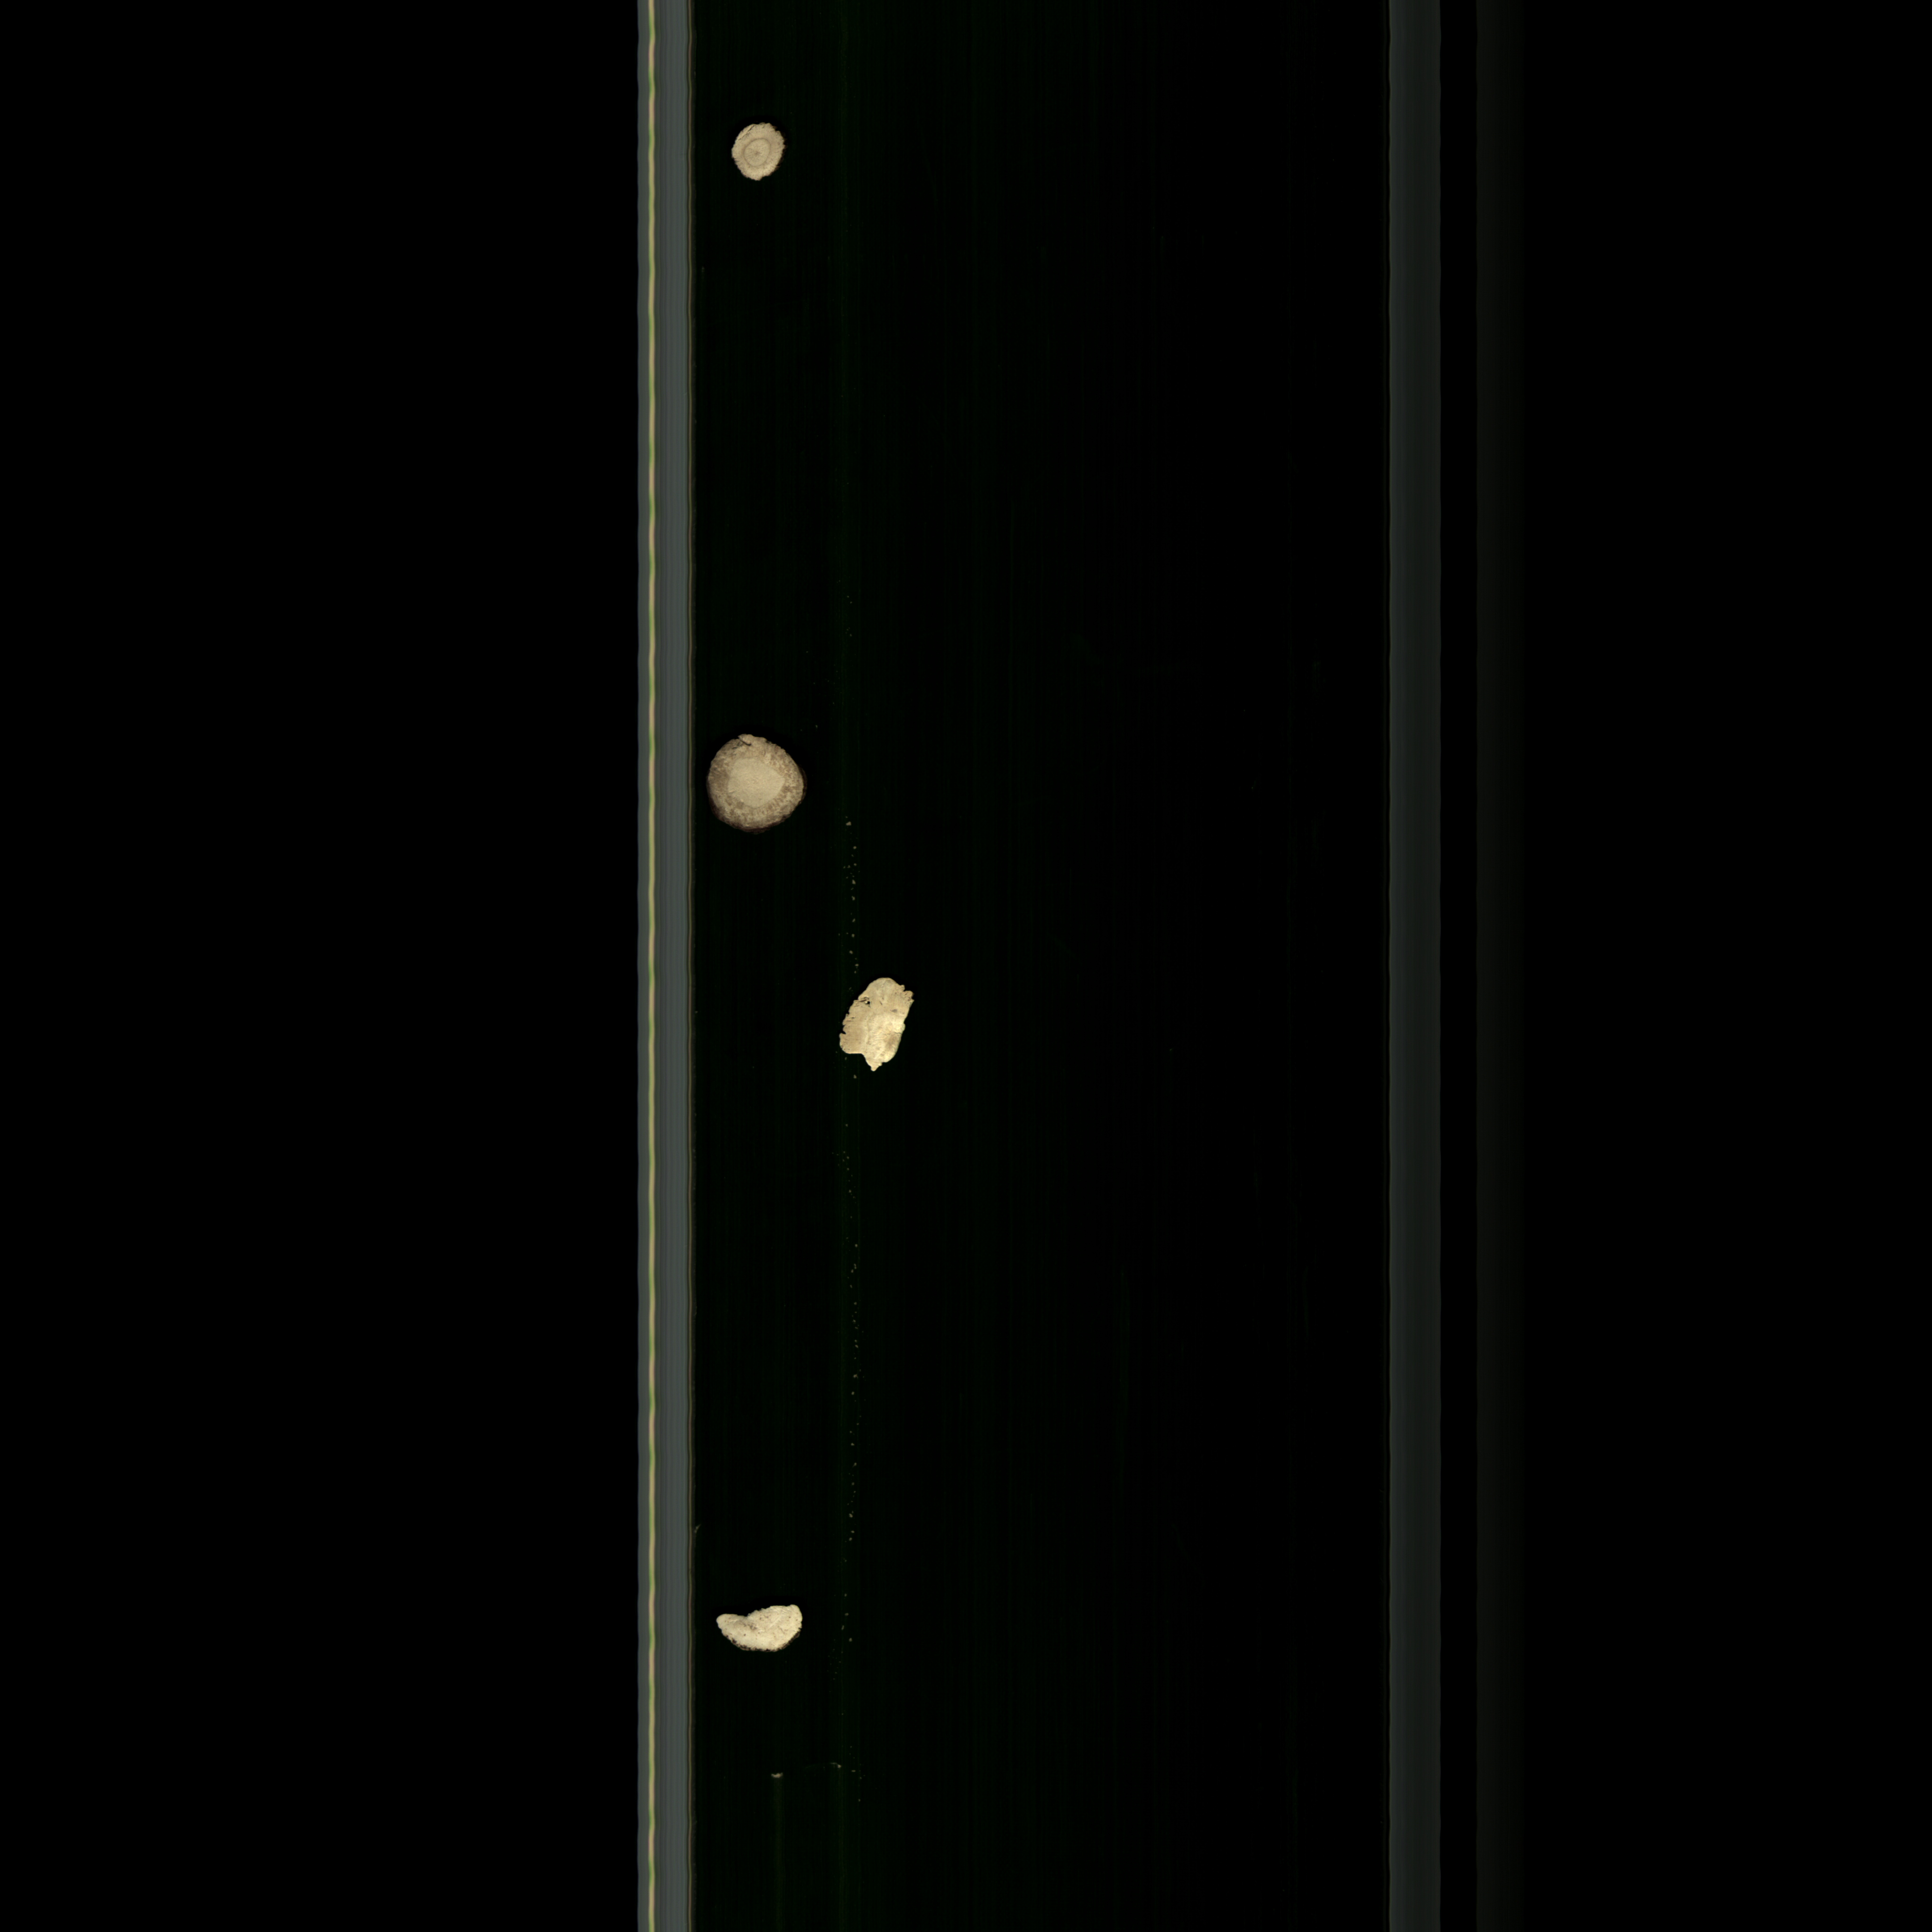debris: (833, 961, 913, 1077), (709, 1599, 821, 1661)
moldy: (709, 725, 814, 833)
